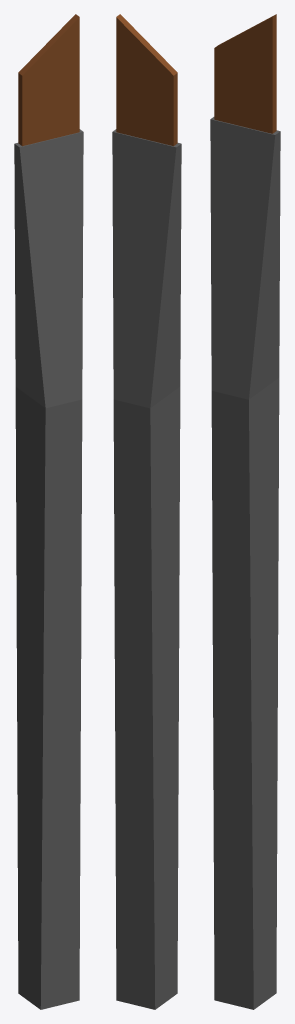
File: AngleBrush1.glb
3 renders of one model, left to right at view 1: azimuth 30°, elevation 25°; view 2: azimuth 150°, elevation 25°; view 3: azimuth 330°, elevation 25°, orthographic.
Visible parts, largest first — view 1: AngleBrush1; view 2: AngleBrush1; view 3: AngleBrush1.
Boxes of the visible parts, x1,y1,x2,y2 form: AngleBrush1: [14, 14, 83, 1009]; AngleBrush1: [112, 14, 181, 1009]; AngleBrush1: [210, 14, 280, 1009].
Size of the model in its own units: 0.021 by 0.3051 by 0.017.
